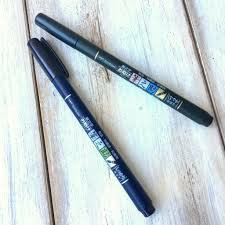pen: (27, 39, 154, 216), (32, 12, 216, 126)
